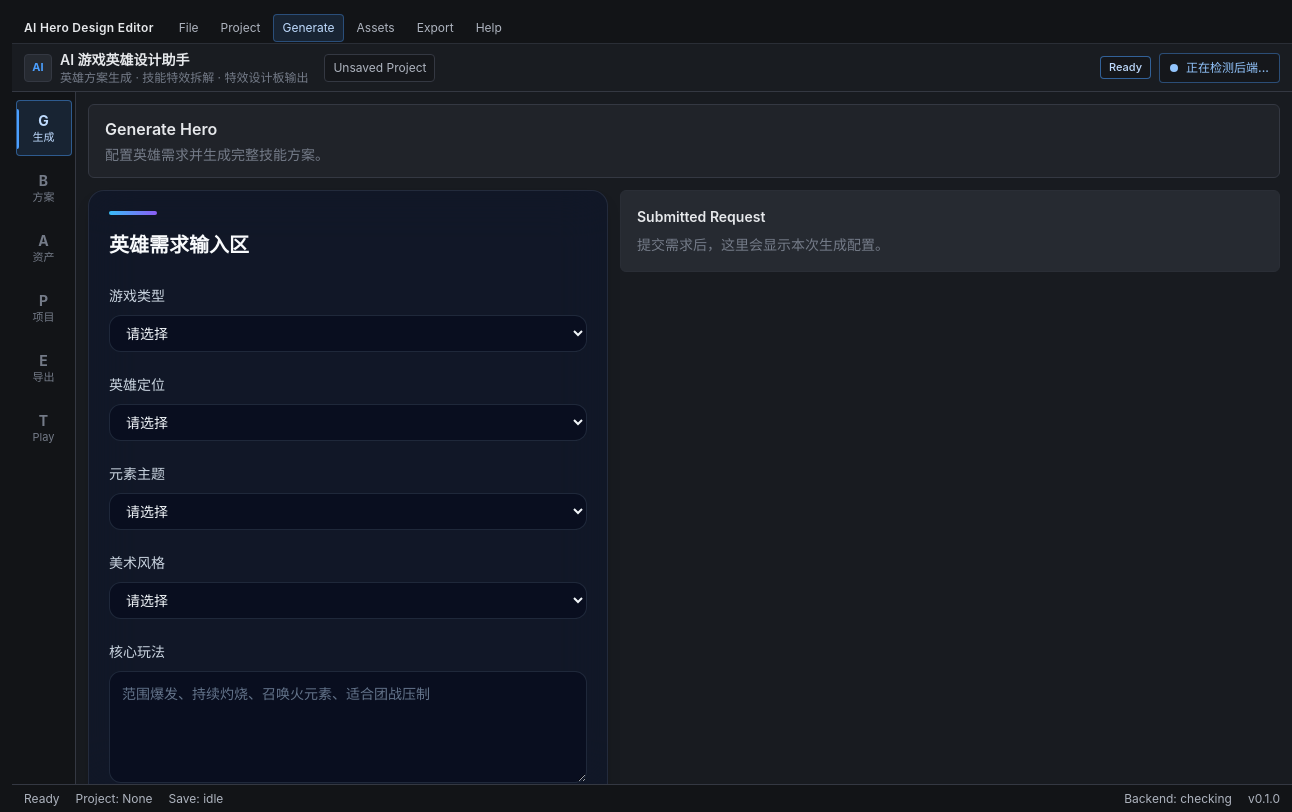
Scenario: runtime vfx project integration › shows disabled runtime vfx generation without playableSpec
Click the button with aria-label "Assets".
click(44, 248)  # box [16,220,72,276]
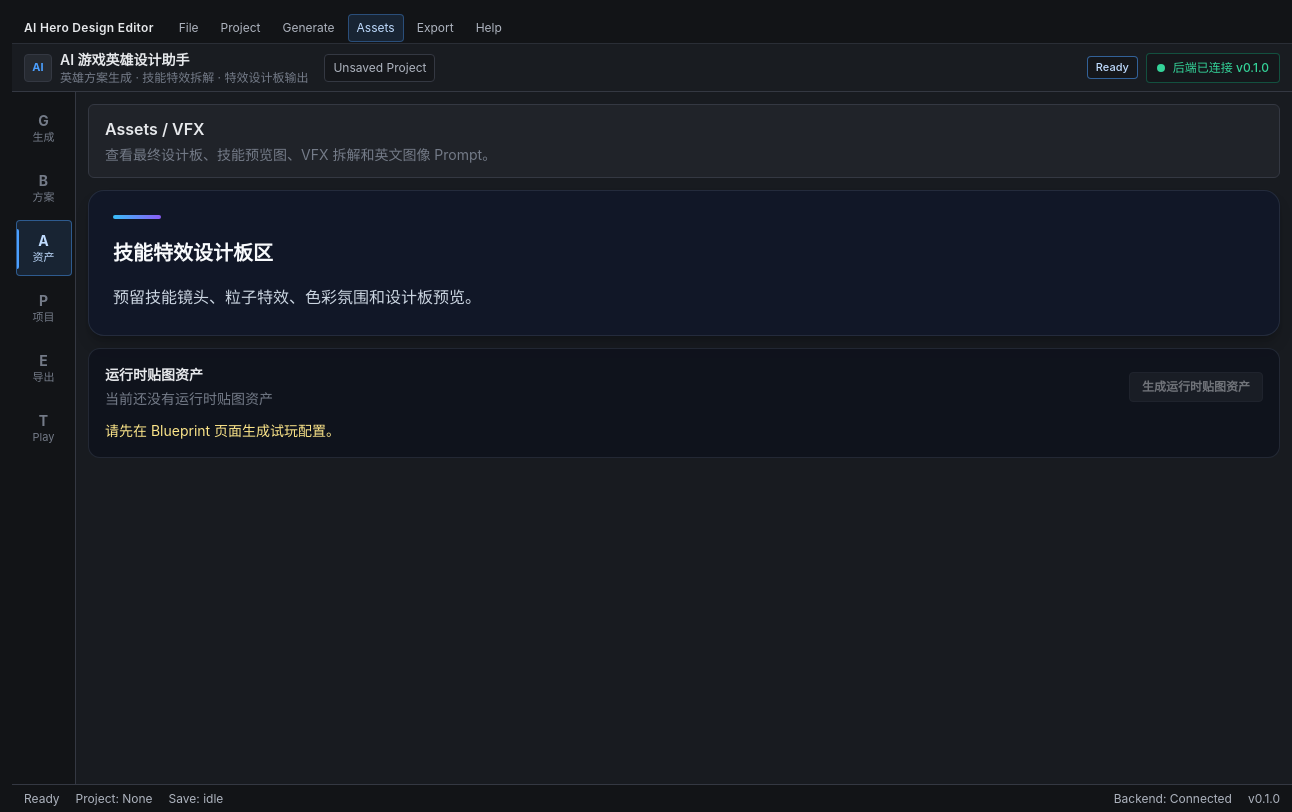
Result: the button "生成运行时贴图资产" is disabled at [1129,372,1263,402]
Result: the text "请先在 Blueprint 页面生成试玩配置。" is shown at [105,422,340,439]
